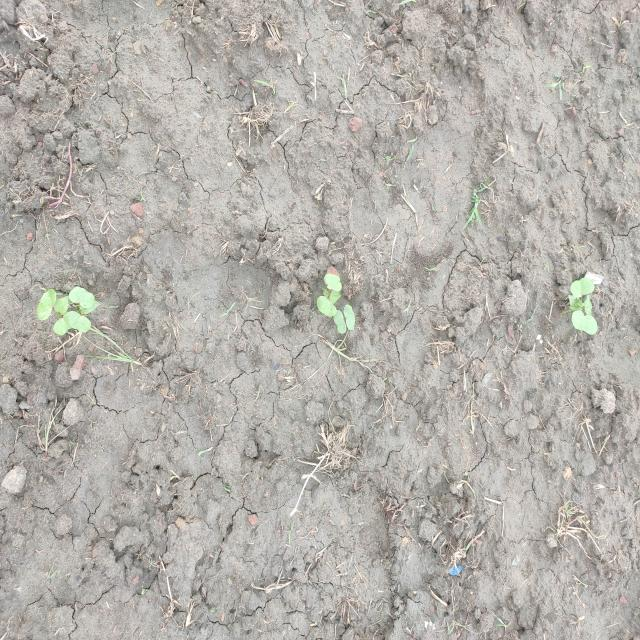seedling: (36, 289, 57, 320), (572, 310, 597, 335), (69, 286, 95, 308), (67, 311, 91, 332), (570, 278, 594, 298), (316, 296, 337, 317), (53, 312, 72, 334), (324, 274, 342, 291), (344, 304, 355, 330), (334, 310, 346, 333), (54, 296, 68, 314), (584, 295, 592, 314), (330, 290, 341, 303)
